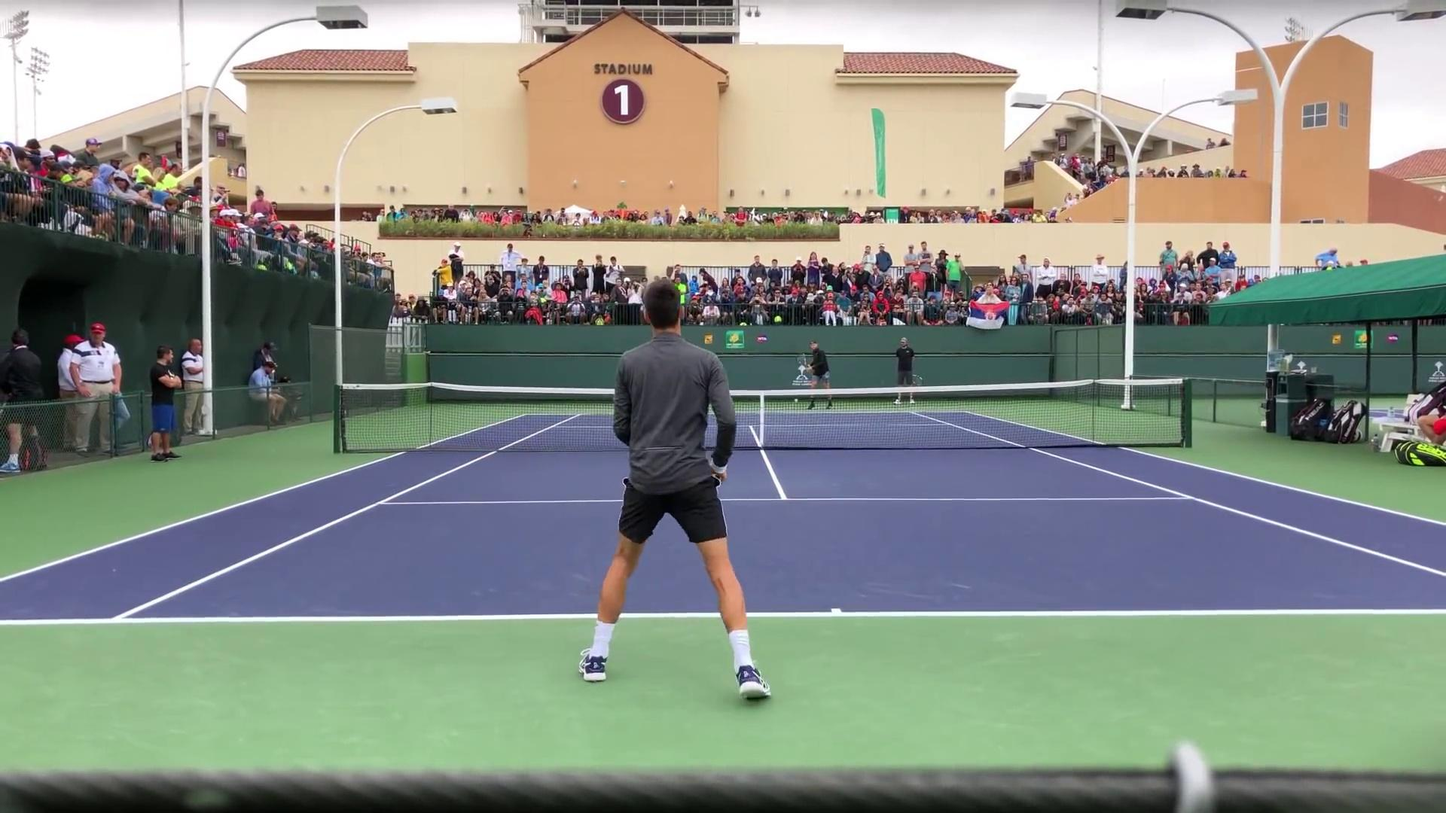ball: (794, 398, 799, 405)
